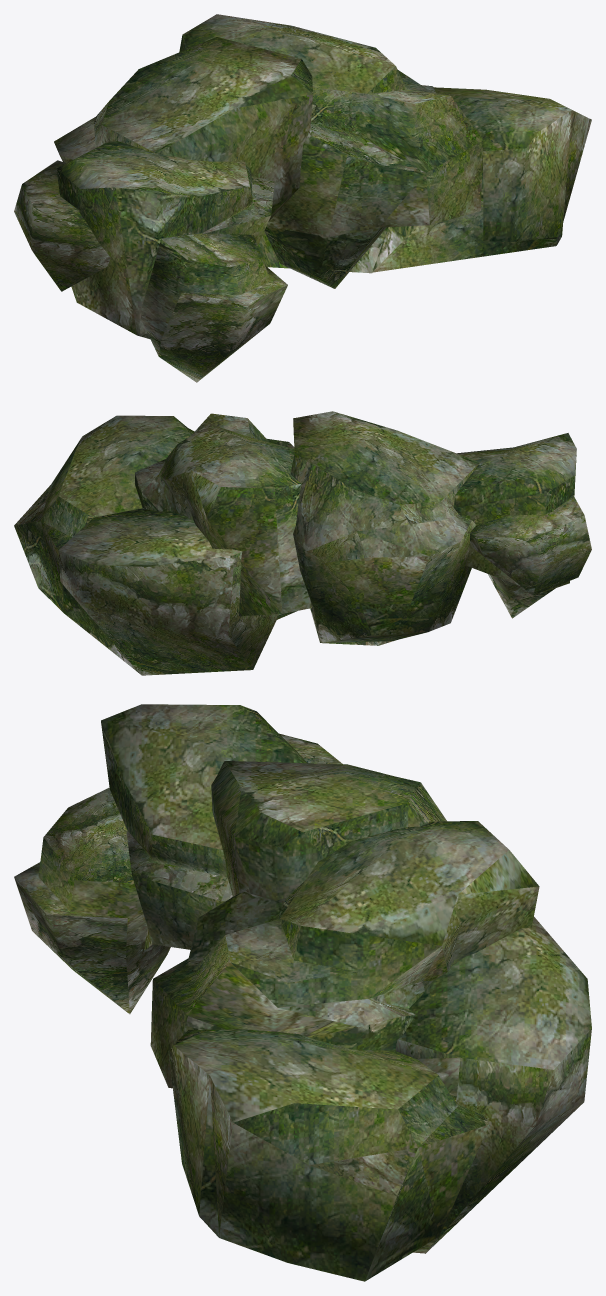
The model's file is S_Rock_Green074.FBX.
3 renders of one model, top to bottom at view 1: azimuth 30°, elevation 25°; view 2: azimuth 150°, elevation 25°; view 3: azimuth 270°, elevation 25°, orthographic. The views are drawn at different scales.
Parts seen in each view (by area): view 1: S_Rock_Green074; view 2: S_Rock_Green074; view 3: S_Rock_Green074.
Part boxes in pixels (x1,y1,x2,y2): S_Rock_Green074: (14, 14, 591, 382); S_Rock_Green074: (14, 411, 591, 675); S_Rock_Green074: (14, 704, 591, 1281).
Size of the model in its own units: 449 by 212 by 313.
